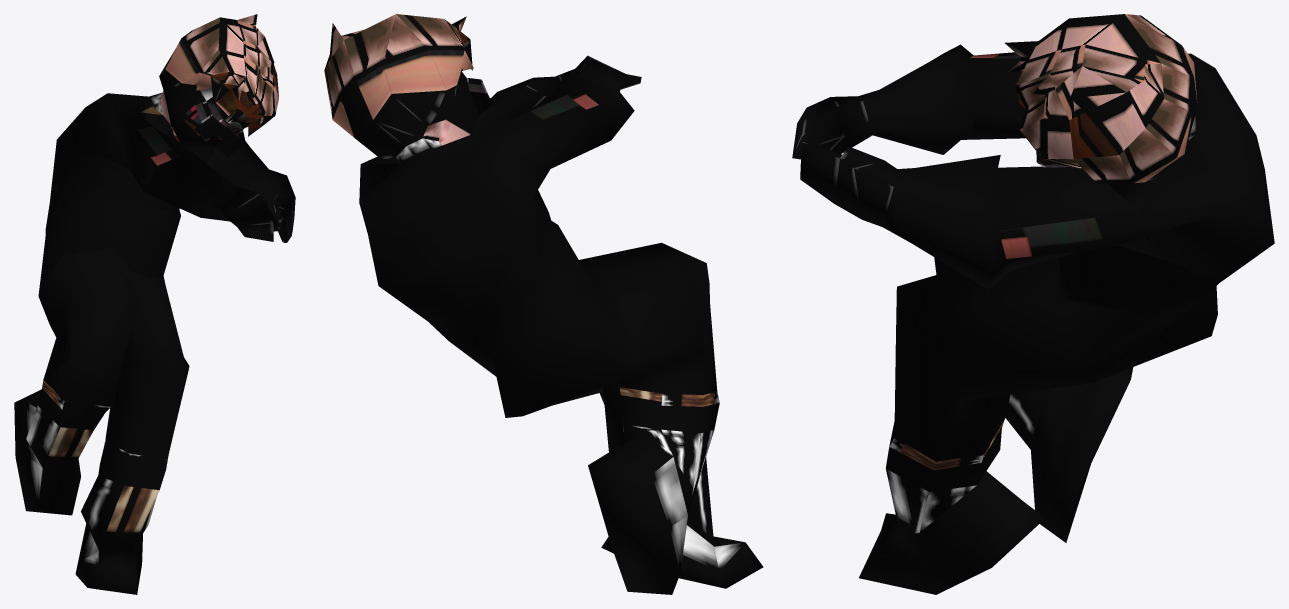
3 renders of one model, left to right at view 1: azimuth 30°, elevation 25°; view 2: azimuth 150°, elevation 25°; view 3: azimuth 270°, elevation 25°, orthographic. The views are drawn at different scales.
Parts seen in each view (by area): view 1: T1L2M004_11; view 2: T1L2M004_11; view 3: T1L2M004_11.
Boxes of the visible parts, x1=… form: T1L2M004_11: x1=14, y1=14, x2=295, y2=594; T1L2M004_11: x1=324, y1=14, x2=763, y2=594; T1L2M004_11: x1=792, y1=14, x2=1274, y2=594.
Size of the model in its own units: 0.6738 by 1.11 by 0.7032.
